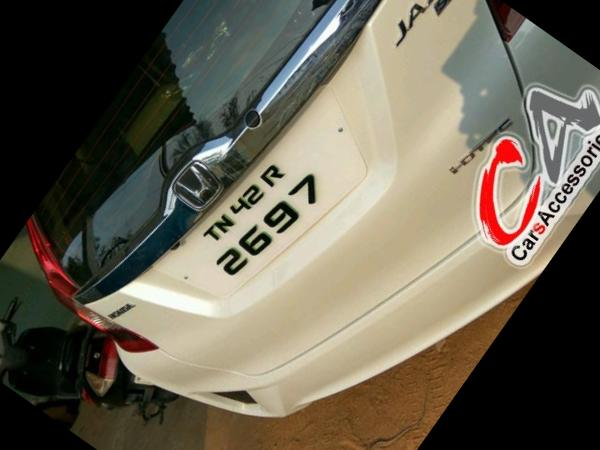plate: (130, 53, 396, 352)
